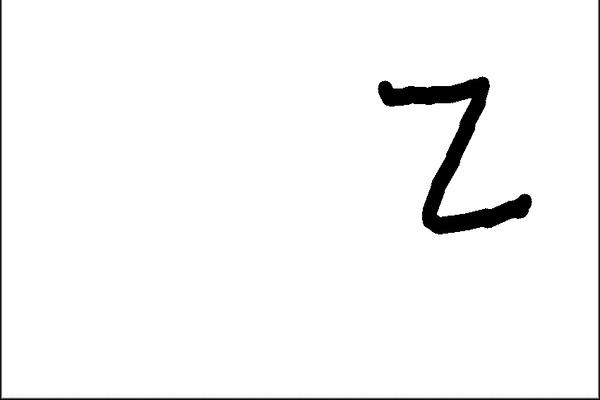Z: (365, 71, 539, 245)
